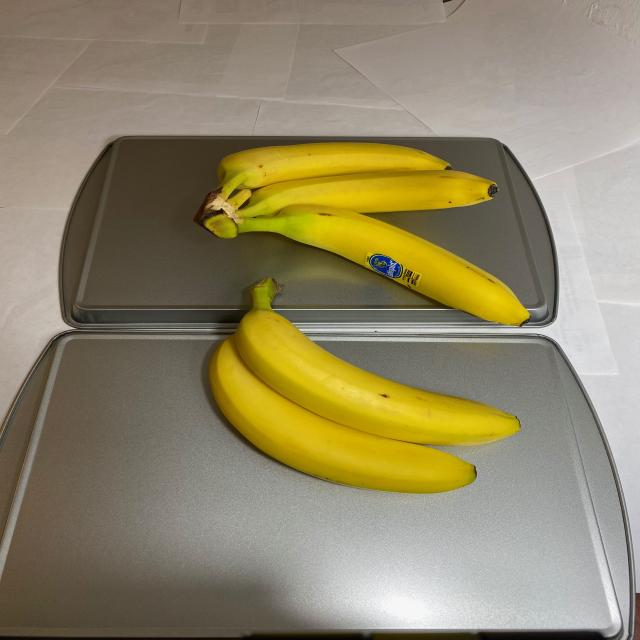banana: (200, 278, 522, 498), (188, 143, 537, 332)
